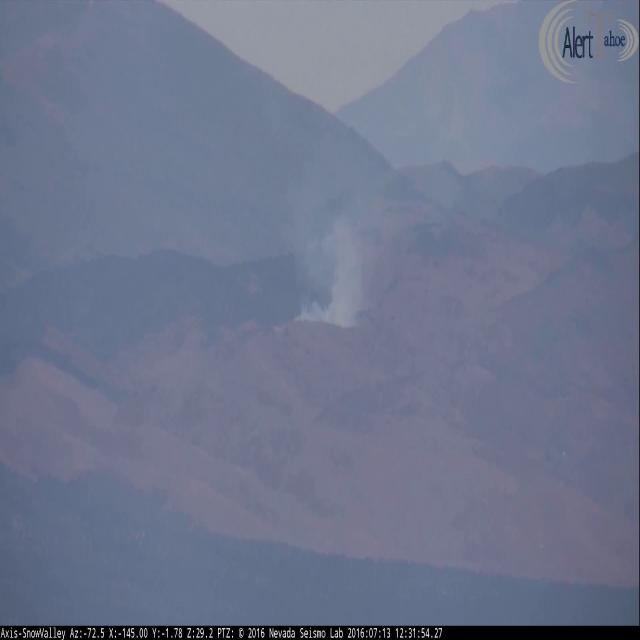smoke: (292, 100, 426, 320)
